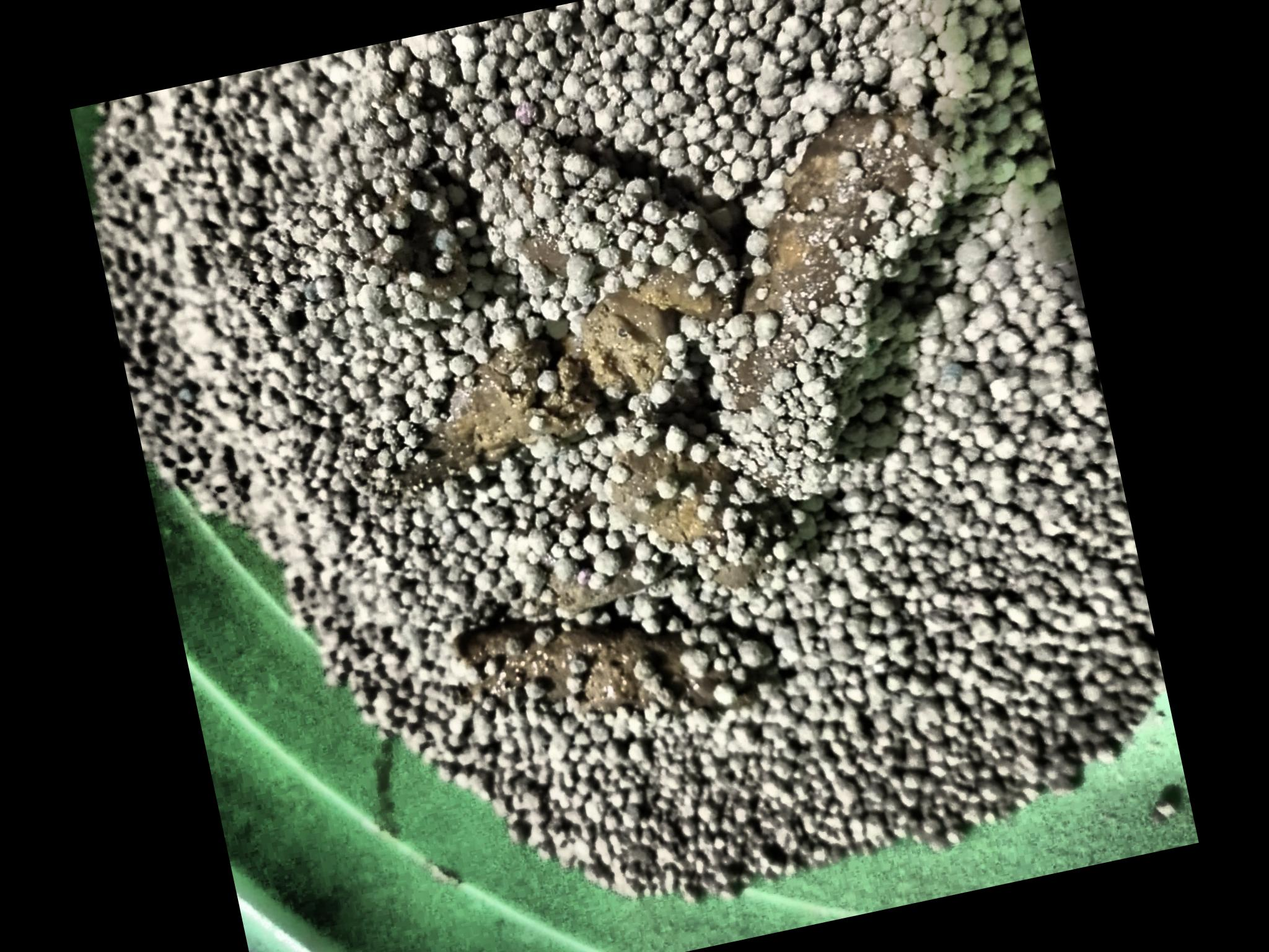poop: (320, 43, 998, 602), (336, 289, 688, 510), (442, 608, 784, 743), (502, 485, 678, 624)
